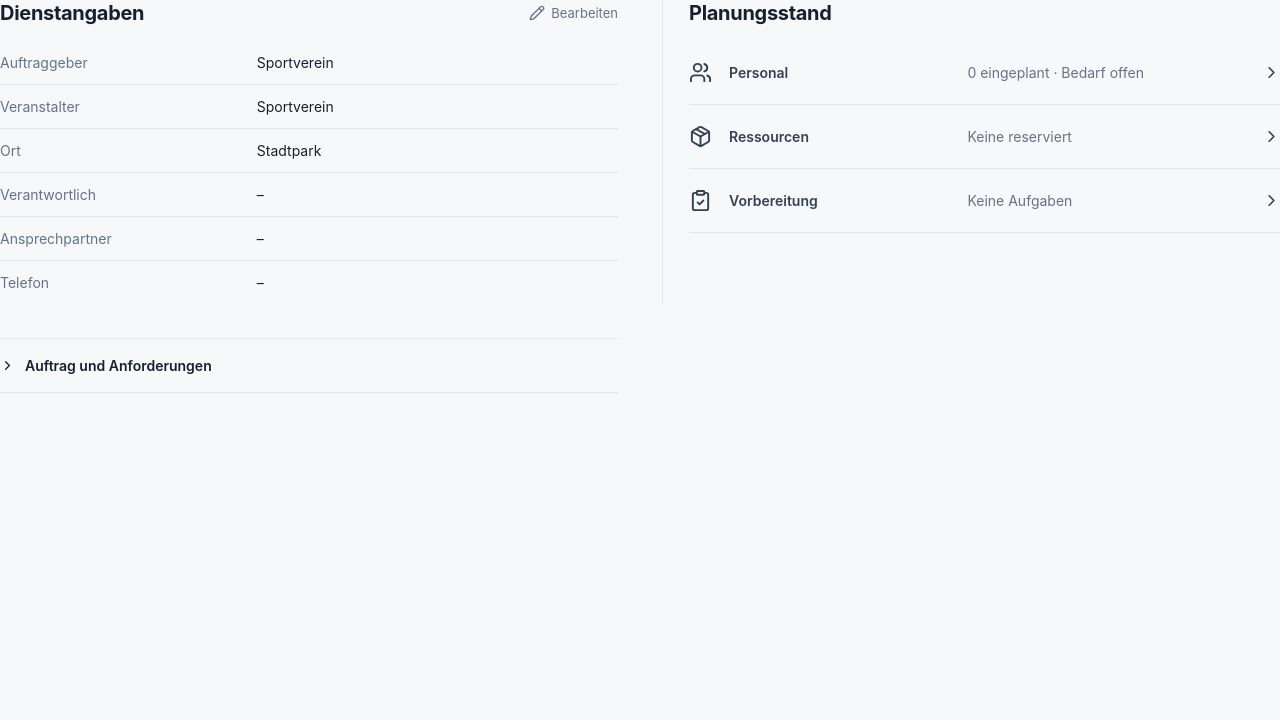
Scenario: service overview › starts with readable service details and opens editing deliberately
This screenshot has width=1280, height=720.
Expected: the text "Sportverein" is shown 2 times, [257,54,334,71]; [257,98,334,115]
Click the button with aria-label "Dienstangaben bearbeiten": (574,13) [529,5,618,21]
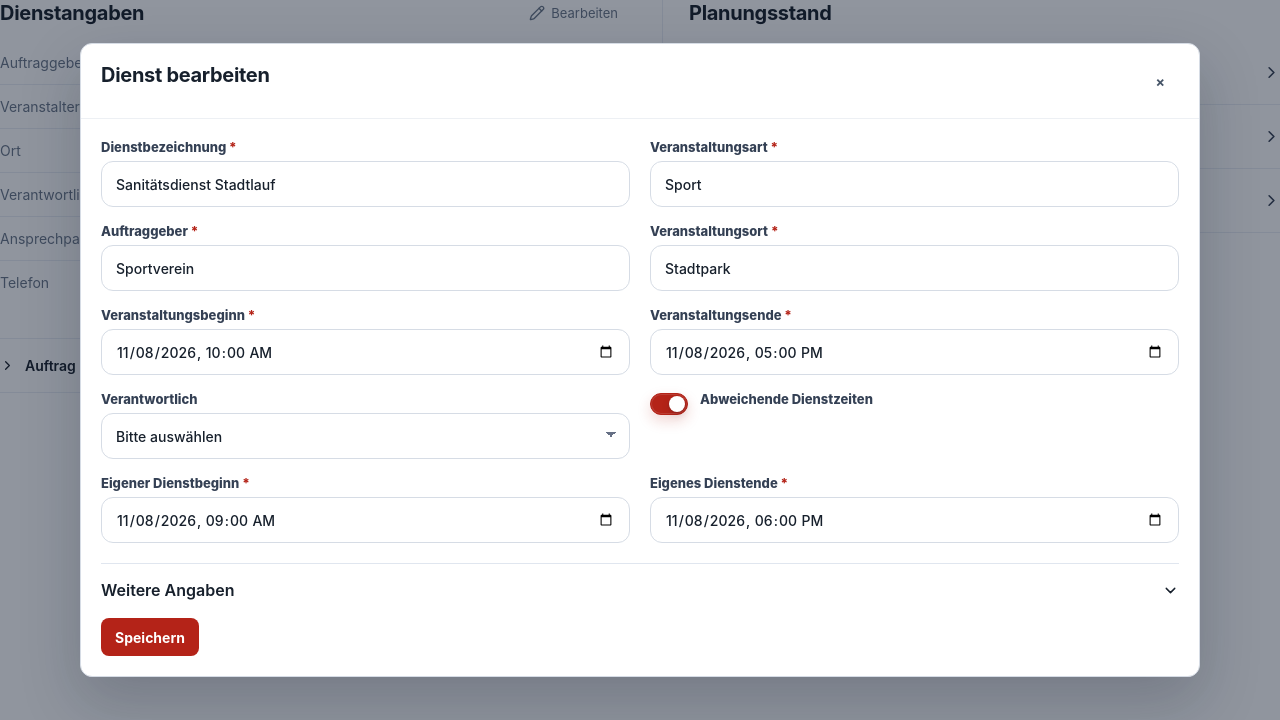
Now the form named "Dienstangaben" is shown
